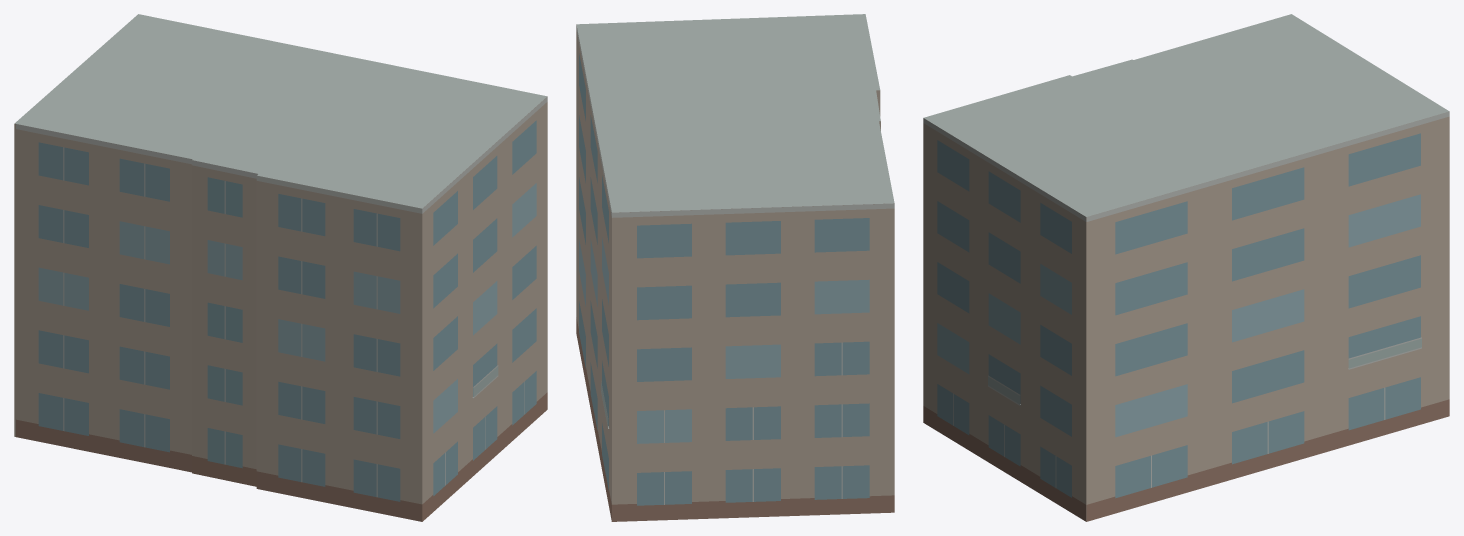
Rendered from survey-upis-32679734.glb.
The picture shows the model from 3 angles, left to right: view 1: azimuth 30°, elevation 25°; view 2: azimuth 150°, elevation 25°; view 3: azimuth 270°, elevation 25°; orthographic projection. The views are drawn at different scales.
Visible parts, largest first — view 1: survey-upis-32679734.tmp; view 2: survey-upis-32679734.tmp; view 3: survey-upis-32679734.tmp.
Boxes of the visible parts, x1=… form: survey-upis-32679734.tmp: x1=14, y1=14, x2=547, y2=521; survey-upis-32679734.tmp: x1=576, y1=14, x2=894, y2=521; survey-upis-32679734.tmp: x1=923, y1=14, x2=1449, y2=521.
Size of the model in its own units: 21.02 by 14.7 by 23.02.
